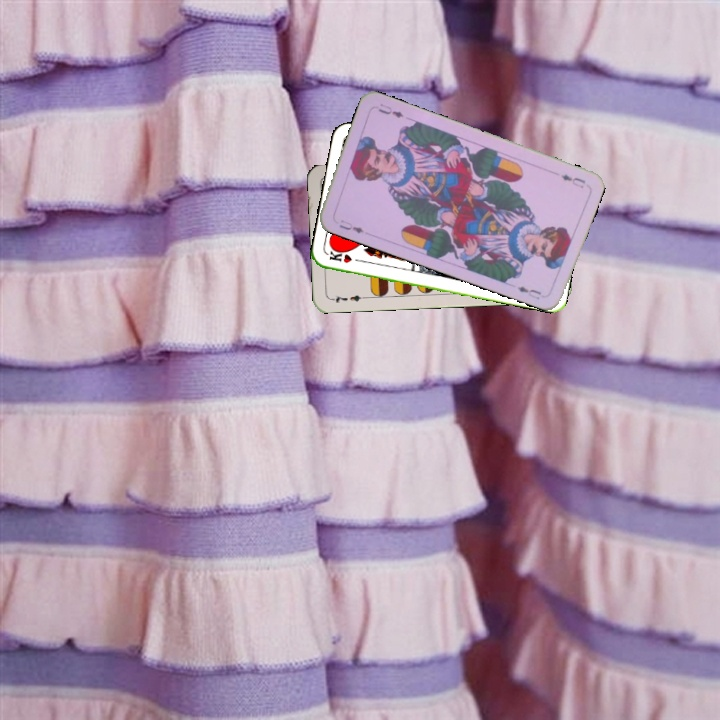E7: (327, 291, 368, 305)
EU: (335, 216, 366, 236), (557, 170, 588, 190)
HK: (325, 247, 366, 266)
